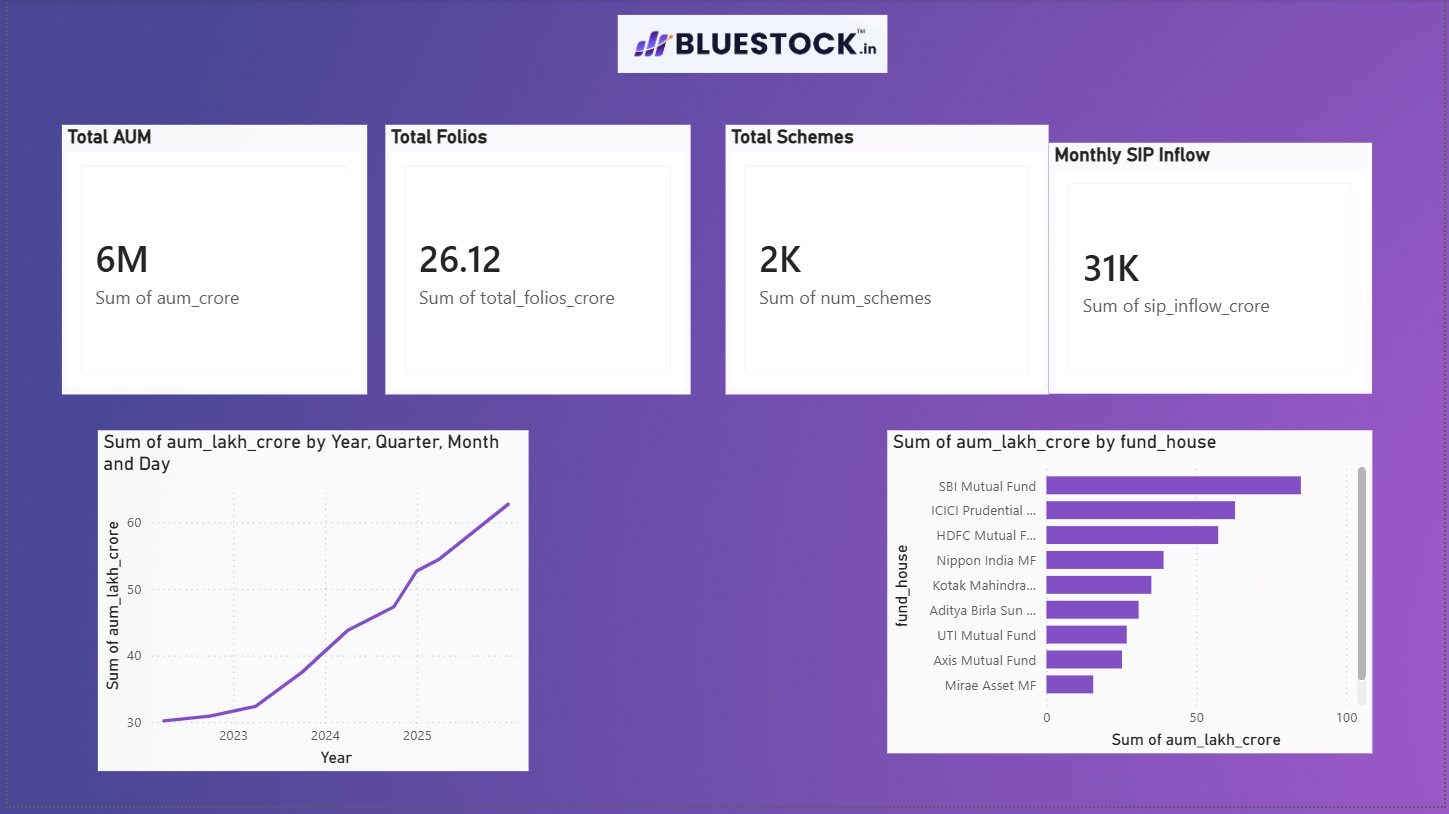

The dashboard page shown, as its layout file describes it:
{"tool":"powerbi","page":{"name":"Page 1 - Industry Overview","canvas":[1280,720],"ordinal":0},"visuals":[{"type":"cardVisual","title":"Total AUM","fields":{"Data":["Sum(03_aum_by_fund_house.aum_crore)"]},"box":[48,112,272,240],"z":0},{"type":"cardVisual","title":"Monthly SIP Inflow","fields":{"Data":["Sum(04_monthly_sip_inflows.sip_inflow_crore)"]},"box":[928,128,288,224],"z":1000},{"type":"cardVisual","title":"Total Folios","fields":{"Data":["Sum(06_industry_folio_count.total_folios_crore)"]},"box":[336,112,272,240],"z":2000},{"type":"cardVisual","title":"Total Schemes","fields":{"Data":["Sum(03_aum_by_fund_house.num_schemes)"]},"box":[640,112,288,240],"z":3000},{"type":"lineChart","fields":{"Y":["Sum(03_aum_by_fund_house.aum_lakh_crore)"],"Category":["03_aum_by_fund_house.date.Variation.Date Hierarchy.Year","03_aum_by_fund_house.date.Variation.Date Hierarchy.Quarter","03_aum_by_fund_house.date.Variation.Date Hierarchy.Month","03_aum_by_fund_house.date.Variation.Date Hierarchy.Day"]},"box":[80,384,384,304],"z":4000},{"type":"clusteredBarChart","fields":{"Category":["03_aum_by_fund_house.fund_house"],"Y":["Sum(03_aum_by_fund_house.aum_lakh_crore)"]},"box":[784,384,432,288],"z":5000},{"type":"image","box":[544,0,240,80],"z":6001}]}

Visuals, with their boxes in screenshot pixels (x1, y1, x2, y2), scaled from the page's 1280x720 canvas onto the 1449x814 screenshot:
"Total AUM" cardVisual: <region>54, 127, 362, 398</region>
"Monthly SIP Inflow" cardVisual: <region>1051, 145, 1377, 398</region>
"Total Folios" cardVisual: <region>380, 127, 688, 398</region>
"Total Schemes" cardVisual: <region>724, 127, 1051, 398</region>
lineChart - Sum(03_aum_by_fund_house.aum_lakh_crore) x 03_aum_by_fund_house.date.Variation.Date Hierarchy.Year: <region>91, 434, 525, 778</region>
clusteredBarChart - 03_aum_by_fund_house.fund_house x Sum(03_aum_by_fund_house.aum_lakh_crore): <region>888, 434, 1377, 760</region>
image: <region>616, 0, 888, 90</region>
